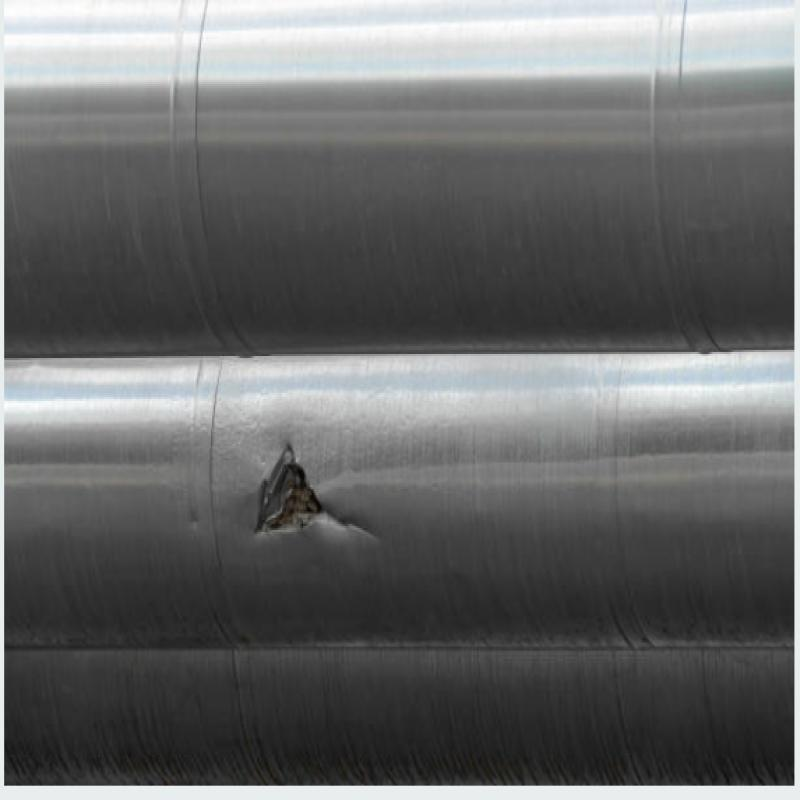Fracture: (218, 418, 428, 574)
